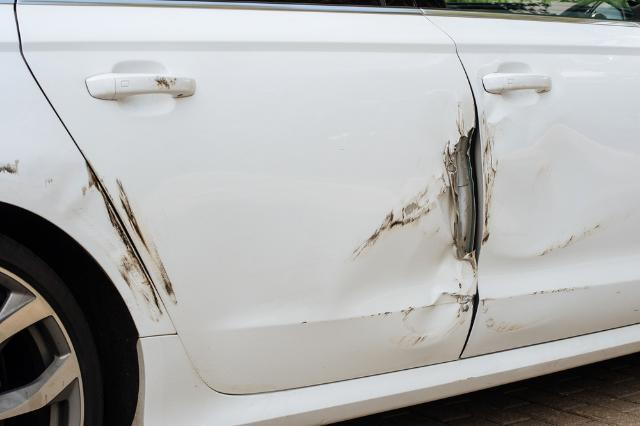crack: (443, 122, 475, 271)
dent: (339, 177, 473, 350), (484, 126, 640, 260), (0, 161, 141, 294)
scratch: (89, 175, 184, 318)
